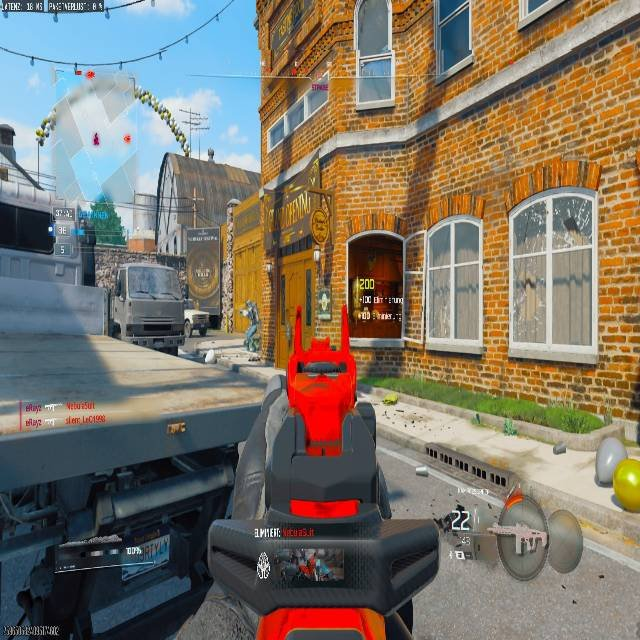head: (246, 300, 255, 309)
player: (239, 300, 260, 351)
